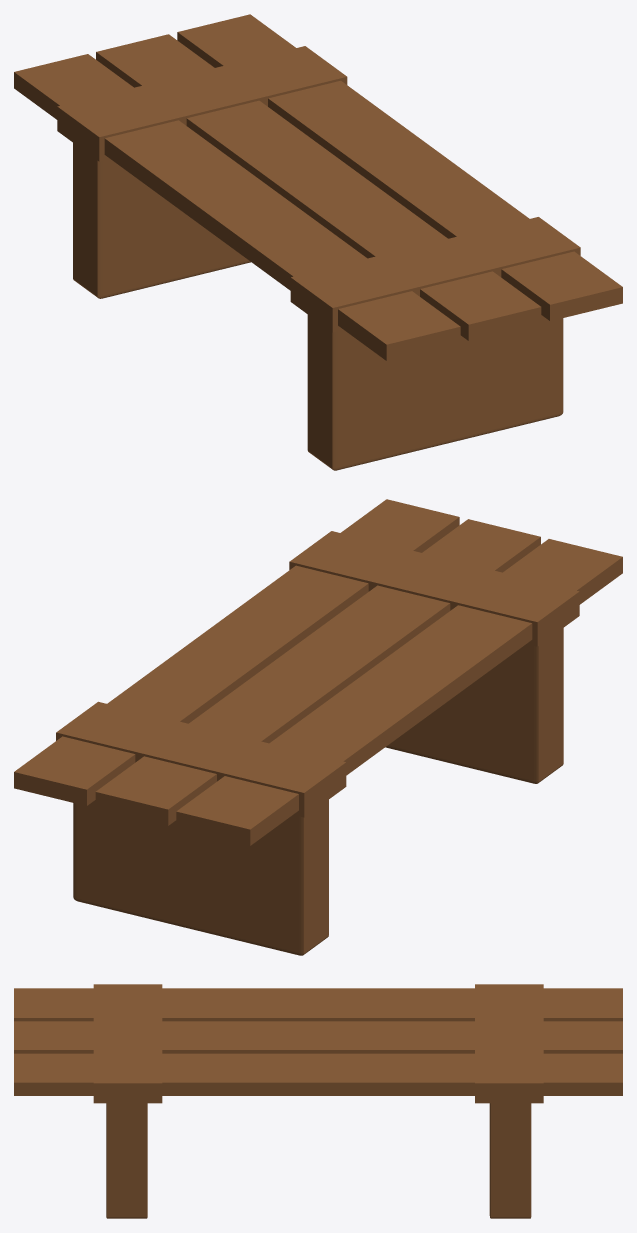
File: WoodBench 1.fbx
3 views of the same model, one above another, from view 1: azimuth 30°, elevation 25°; view 2: azimuth 150°, elevation 25°; view 3: azimuth 270°, elevation 25° (orthographic). The views are drawn at different scales.
Parts seen in each view (by area): view 1: Cube.003, Cube.002, Cube.001, Cube, Cube.004, Cube.006, Cube.005; view 2: Cube.004, Cube.002, Cube.001, Cube, Cube.003, Cube.005, Cube.006; view 3: Cube.001, Cube.002, Cube, Cube.005, Cube.006, Cube.004, Cube.003.
Boxes of the visible parts, <box> form: Cube.003: <box>307,314,563,470</box>; Cube.002: <box>14,54,460,360</box>; Cube.001: <box>177,14,622,321</box>; Cube: <box>96,34,541,340</box>; Cube.004: <box>73,143,250,298</box>; Cube.006: <box>57,46,347,161</box>; Cube.005: <box>290,217,580,332</box>; Cube.004: <box>73,800,328,955</box>; Cube.002: <box>176,539,622,845</box>; Cube.001: <box>14,499,459,805</box>; Cube: <box>95,519,540,825</box>; Cube.003: <box>385,628,563,783</box>; Cube.005: <box>289,531,579,646</box>; Cube.006: <box>56,701,346,817</box>; Cube.001: <box>14,1053,622,1095</box>; Cube.002: <box>14,988,622,1021</box>; Cube: <box>14,1021,622,1053</box>; Cube.005: <box>93,984,162,1103</box>; Cube.006: <box>475,984,543,1103</box>; Cube.004: <box>489,1103,531,1218</box>; Cube.003: <box>106,1103,147,1218</box>.
Bounding box in the file's own units: 77.67 × 51.31 × 202.
